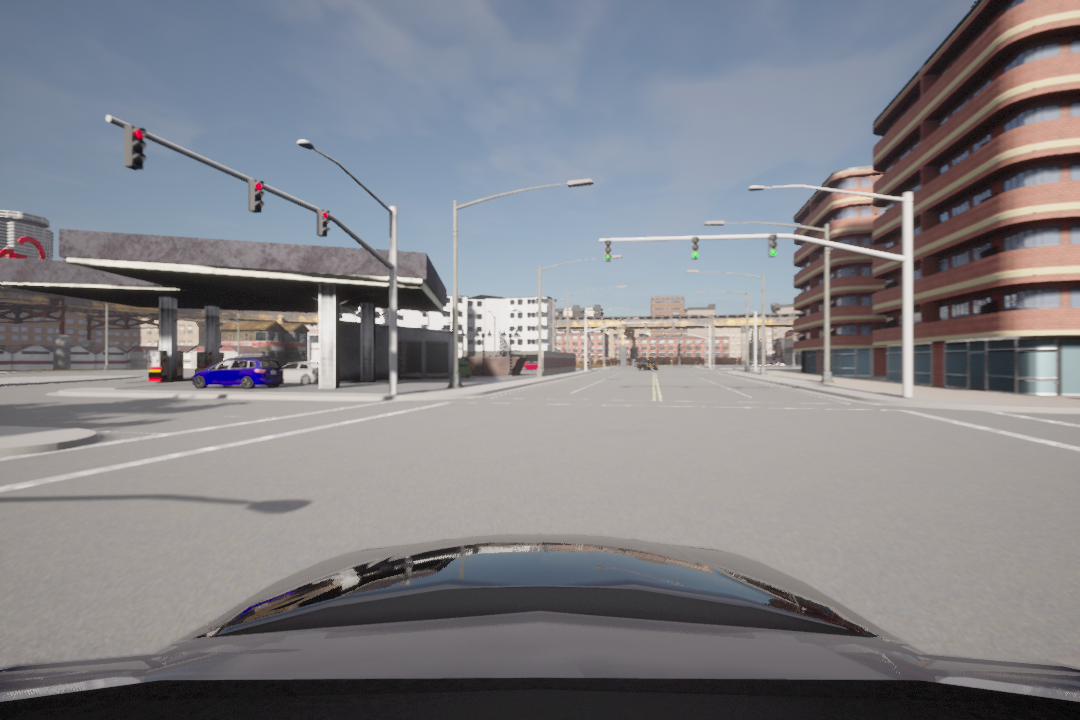TrafficLight: (123, 124, 148, 172), (247, 174, 264, 217), (314, 202, 328, 237), (604, 237, 616, 265), (689, 235, 701, 262), (766, 234, 777, 263)
